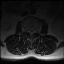CCS_normal: (30, 28, 32, 37)
LFS_normal: (34, 28, 37, 34)
LLS_normal: (32, 28, 34, 35)
RFS_stenosis: (26, 28, 28, 34)
RLS_normal: (28, 28, 30, 35)
